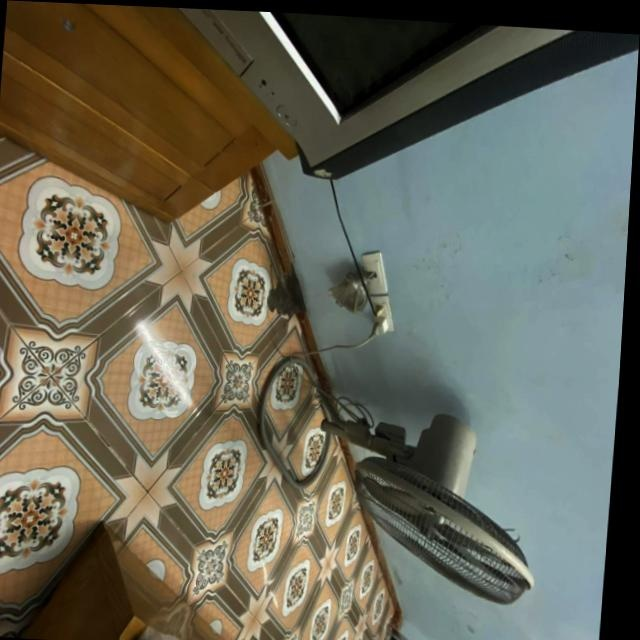outlet: (357, 249, 390, 294), (364, 294, 396, 335)
